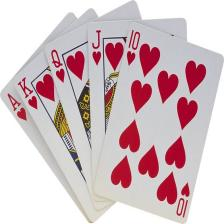red: (120, 120, 140, 152)
